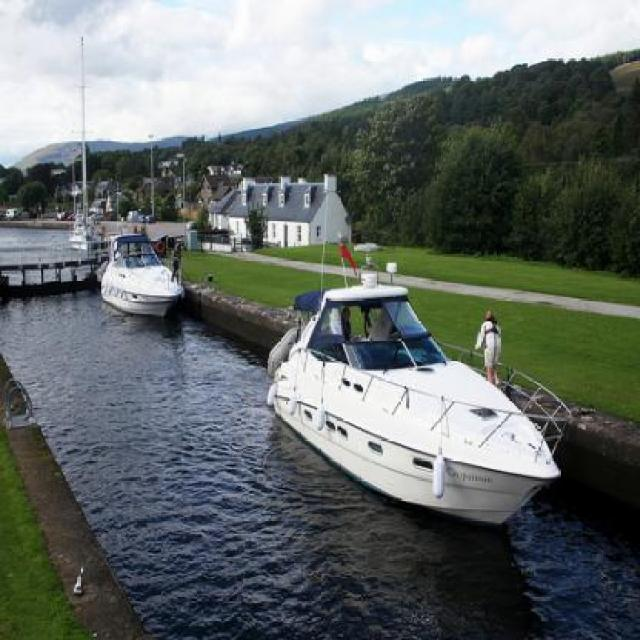ship: (267, 272, 570, 528), (67, 35, 111, 248), (99, 231, 183, 317)
